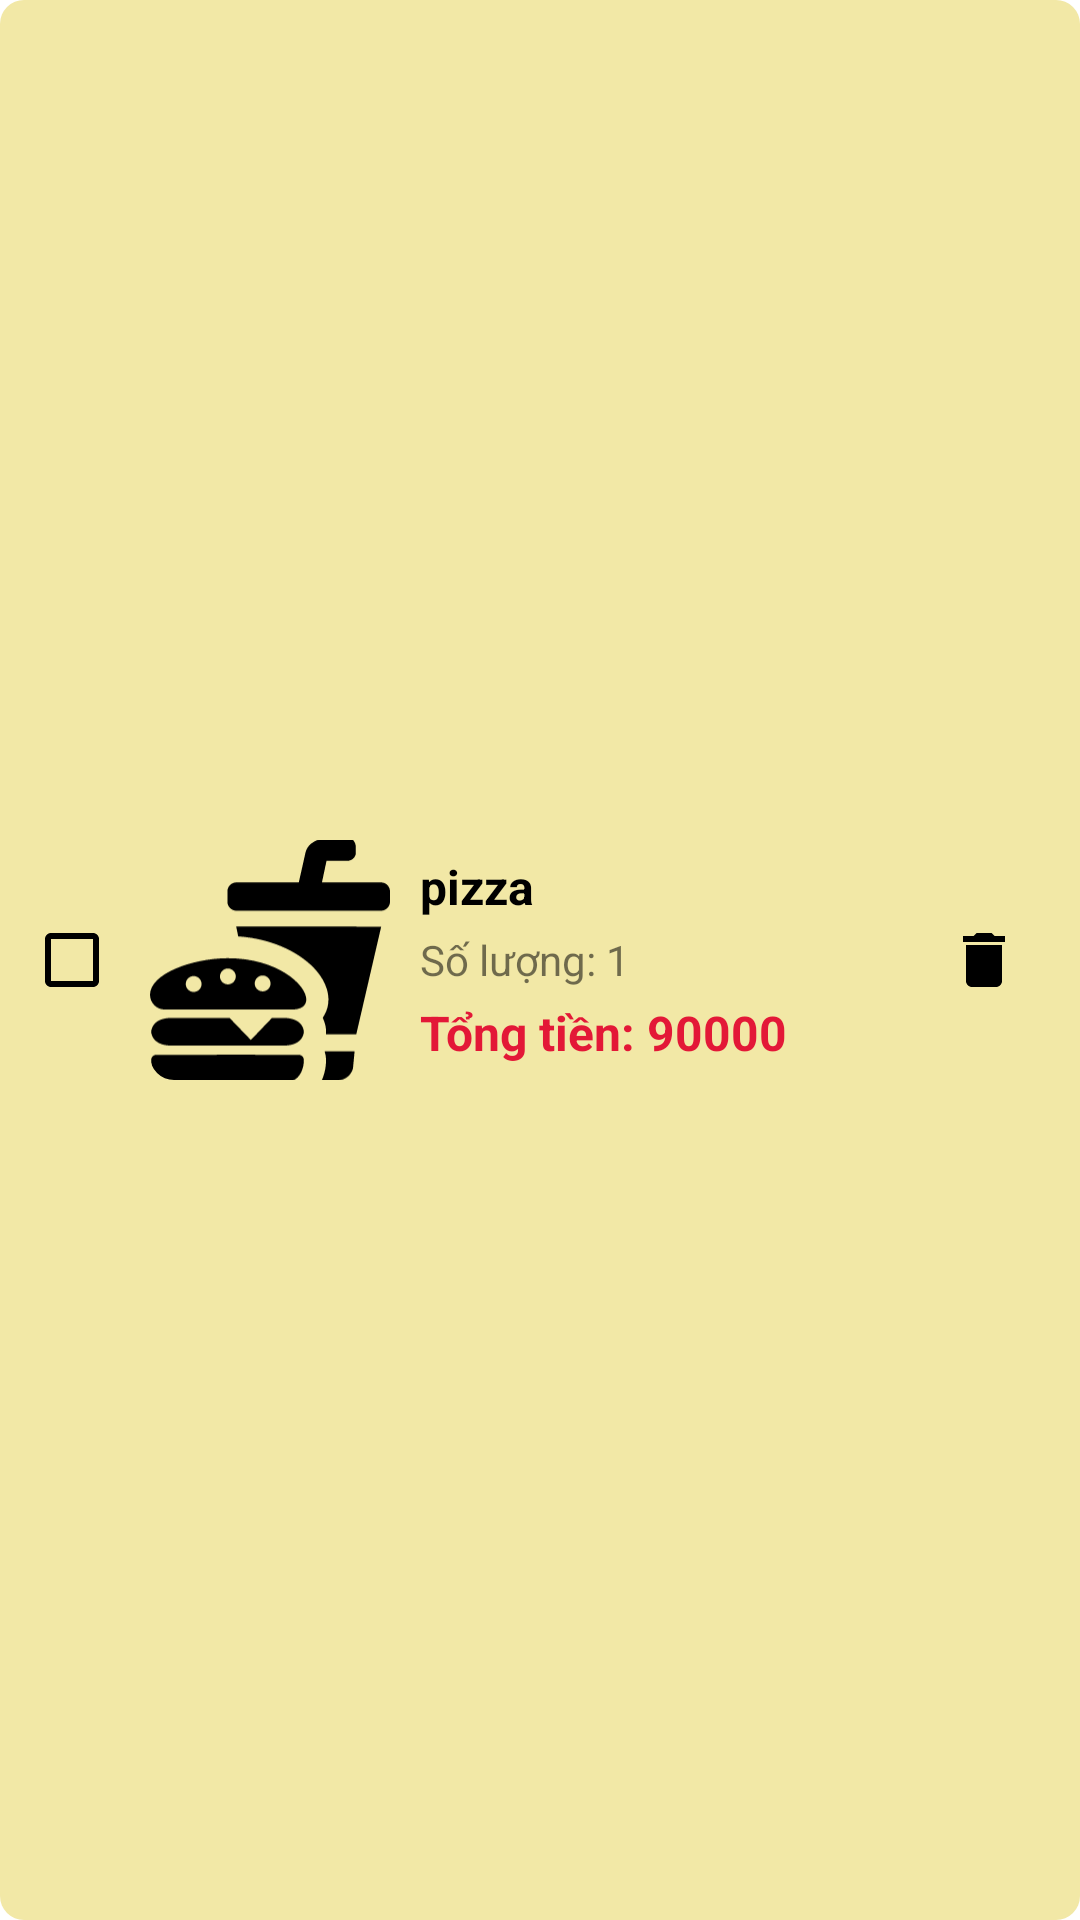

Icon bounding boxes for this 1080 × 1920 phone screenshot, format (x1, y1, x2, y2):
Delete item: (963, 933, 1005, 987)
Product image: (150, 840, 390, 1080)
